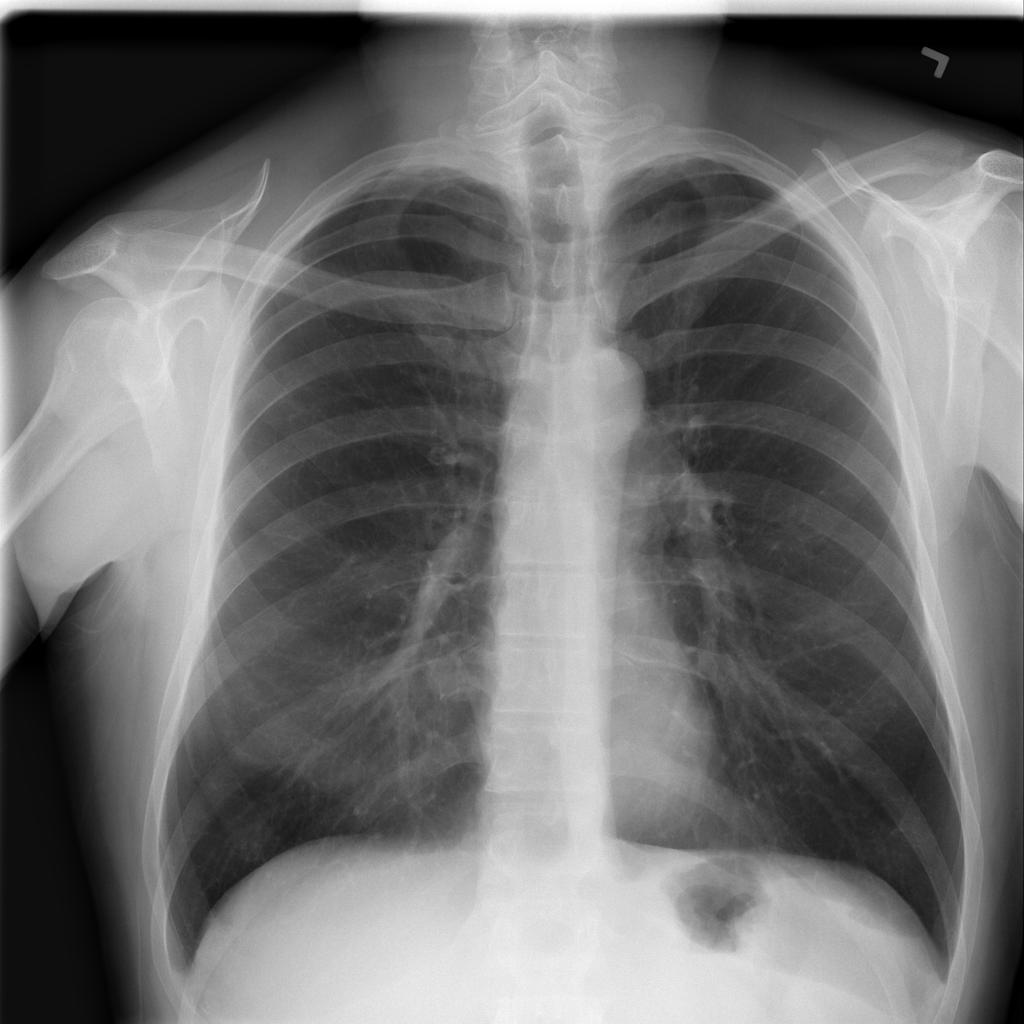nodule: (411, 639, 486, 715)
